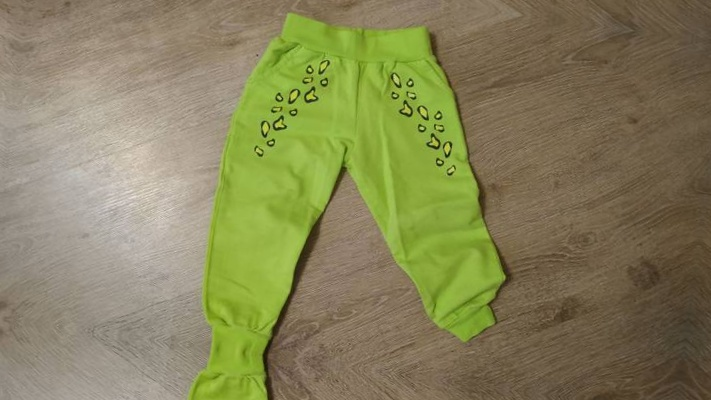Pants: (158, 0, 546, 388), (108, 341, 496, 400), (211, 0, 600, 8)
